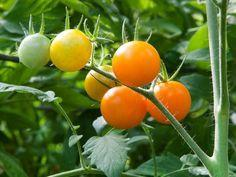healthy-tomato: (101, 87, 166, 131), (114, 42, 164, 93), (145, 81, 193, 124)
